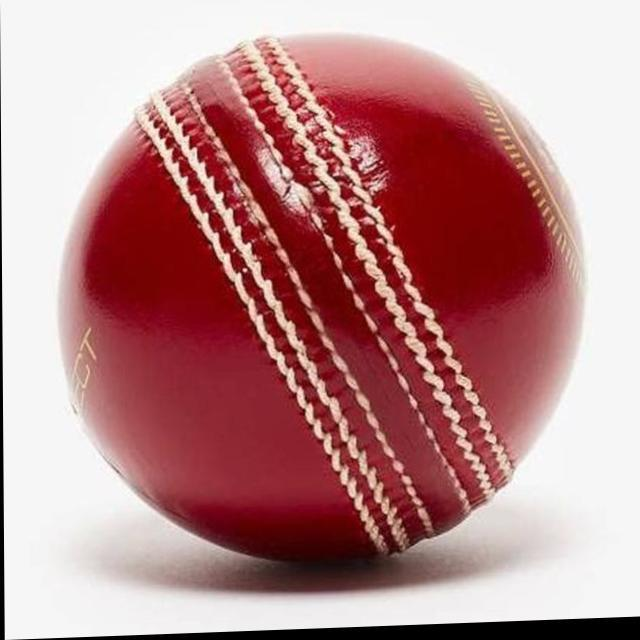cricket ball: (56, 35, 586, 566)
